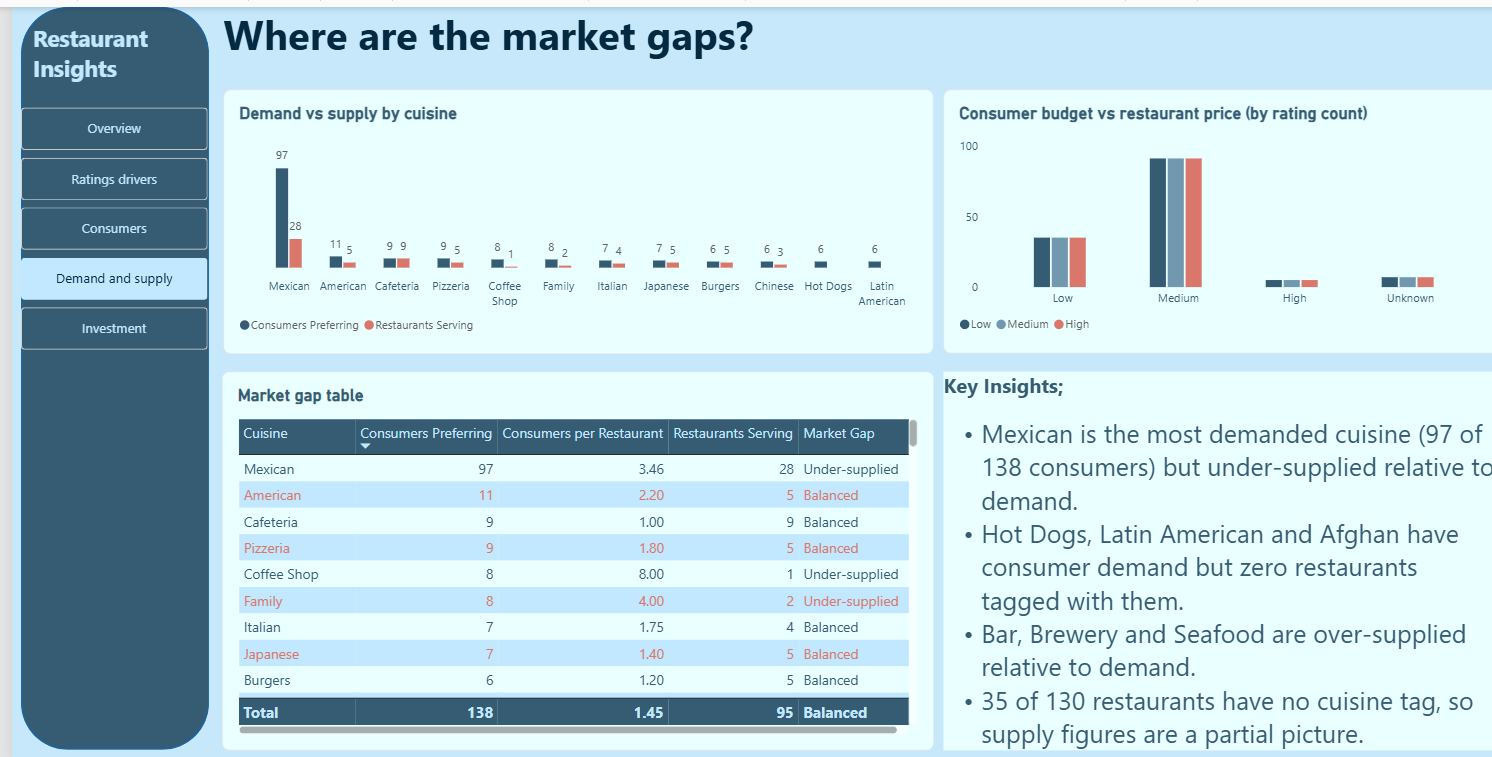

The page's visual inventory and layout, read from the dashboard file:
{"tool":"powerbi","page":{"name":"Demand and supply","canvas":[1580,800],"ordinal":3},"visuals":[{"type":"shape","box":[10.2,0,199.6,788.1],"z":0},{"type":"textbox","box":[22.9,16.3,173.3,89.9],"z":1000},{"type":"pageNavigator","box":[9.5,106.5,198.8,260.3],"z":2000},{"type":"tableEx","title":"Market gap table","fields":{"Values":["Cuisine.Cuisine","Measures (2).Consumers Preferring","Measures (2).Consumers per Restaurant","Measures (2).Restaurants Serving","Measures (2).Market Gap"]},"box":[222.6,386.4,755.3,402.2],"z":3000},{"type":"clusteredColumnChart","title":"Demand vs supply by cuisine","fields":{"Y":["Measures (2).Consumers Preferring","Measures (2).Restaurants Serving"],"Category":["Cuisine.Cuisine"]},"box":[225.2,87,753.2,280.4],"z":4000},{"type":"clusteredColumnChart","title":"Consumer budget vs restaurant price (by rating count)","fields":{"Category":["Consumers.Budget"],"Y":["Measures (2).Consumer Count"],"Series":["Restaurants.Price"]},"box":[987.7,87,593,280],"z":5000},{"type":"textbox","box":[987.7,386.4,591.1,401.7],"z":6000},{"type":"textbox","box":[224.9,0,1354.3,68.2],"z":6001}]}

Visuals, with their boxes in screenshot pixels (x1, y1, x2, y2), scaled from the page's 1580x800 canvas onto the 1492x757 screenshot:
shape: Rect(10, 0, 198, 746)
textbox: Rect(22, 15, 185, 100)
pageNavigator: Rect(9, 101, 197, 347)
"Market gap table" tableEx: Rect(210, 366, 923, 746)
"Demand vs supply by cuisine" clusteredColumnChart: Rect(213, 82, 924, 348)
"Consumer budget vs restaurant price (by rating count)" clusteredColumnChart: Rect(933, 82, 1491, 347)
textbox: Rect(933, 366, 1491, 746)
textbox: Rect(212, 0, 1491, 65)
